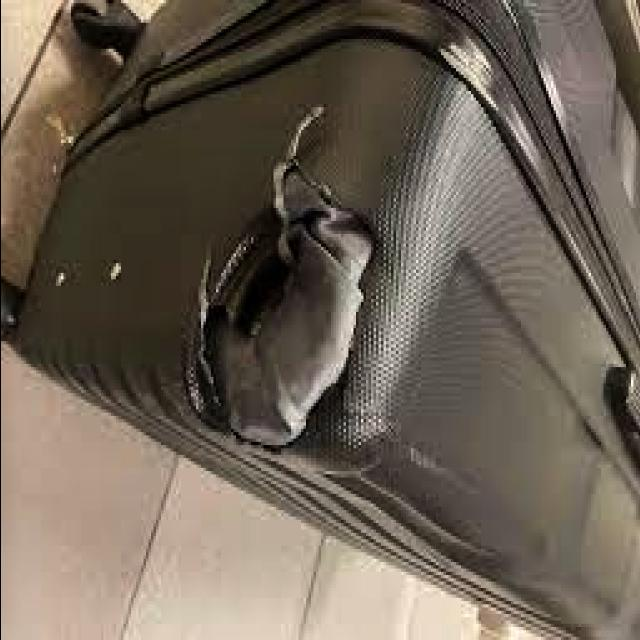Damage-bag: (183, 106, 372, 447)
